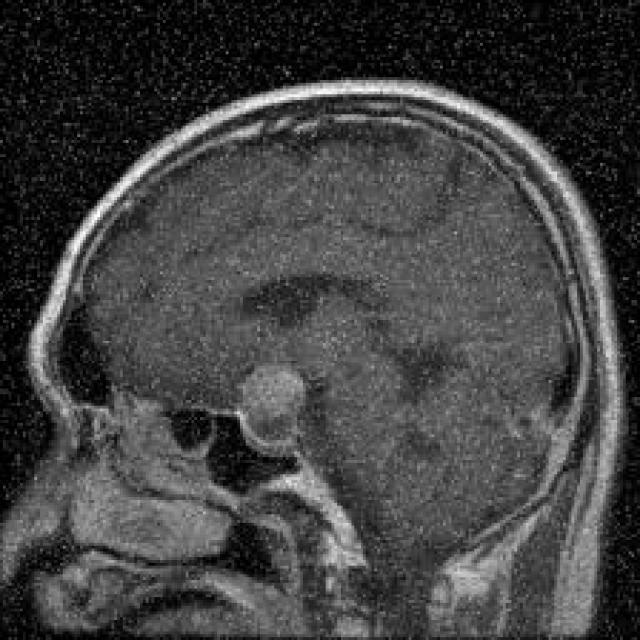pituitary_tumor: (219, 347, 332, 479)
